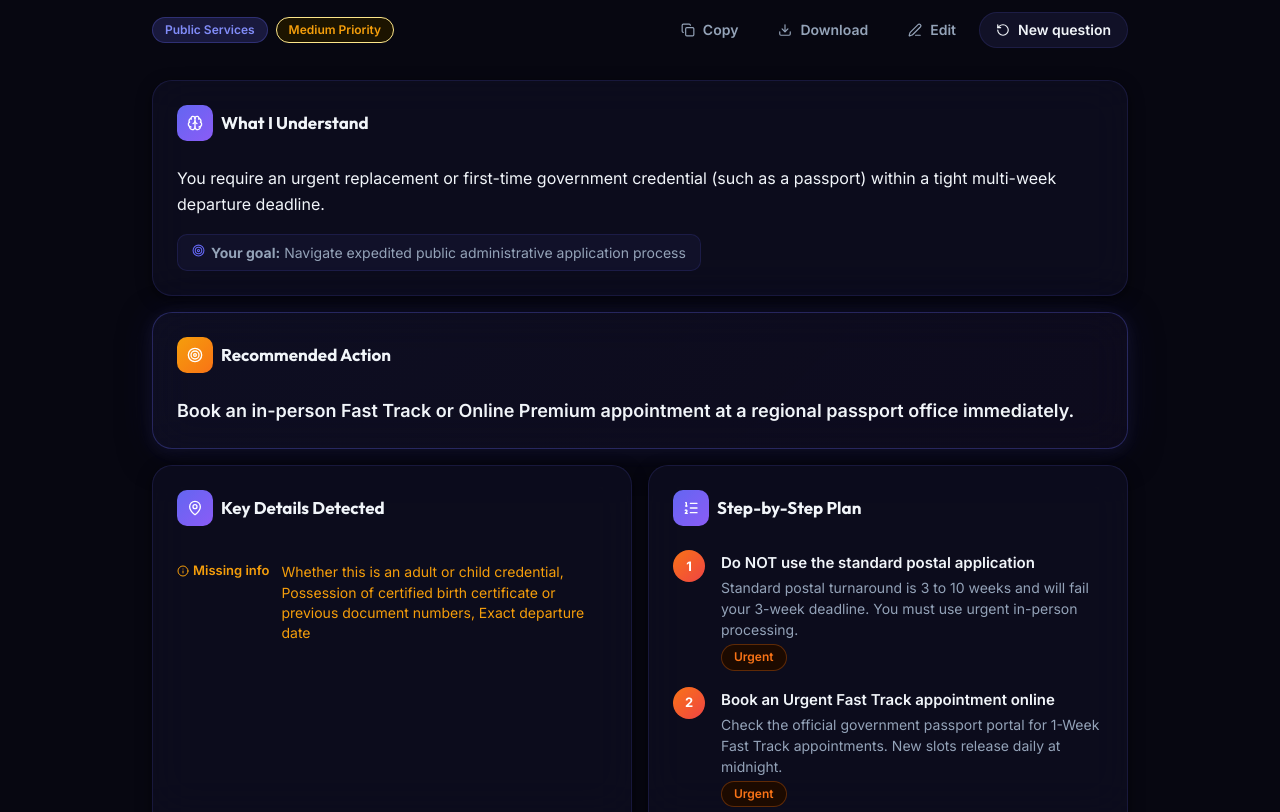
Test case: ResultsDashboard — Copy Result button › shows "Copied!" after a successful clipboard write
Click the button with aria-label "Copy result to clipboard" at (710, 30), box [664, 12, 755, 48]
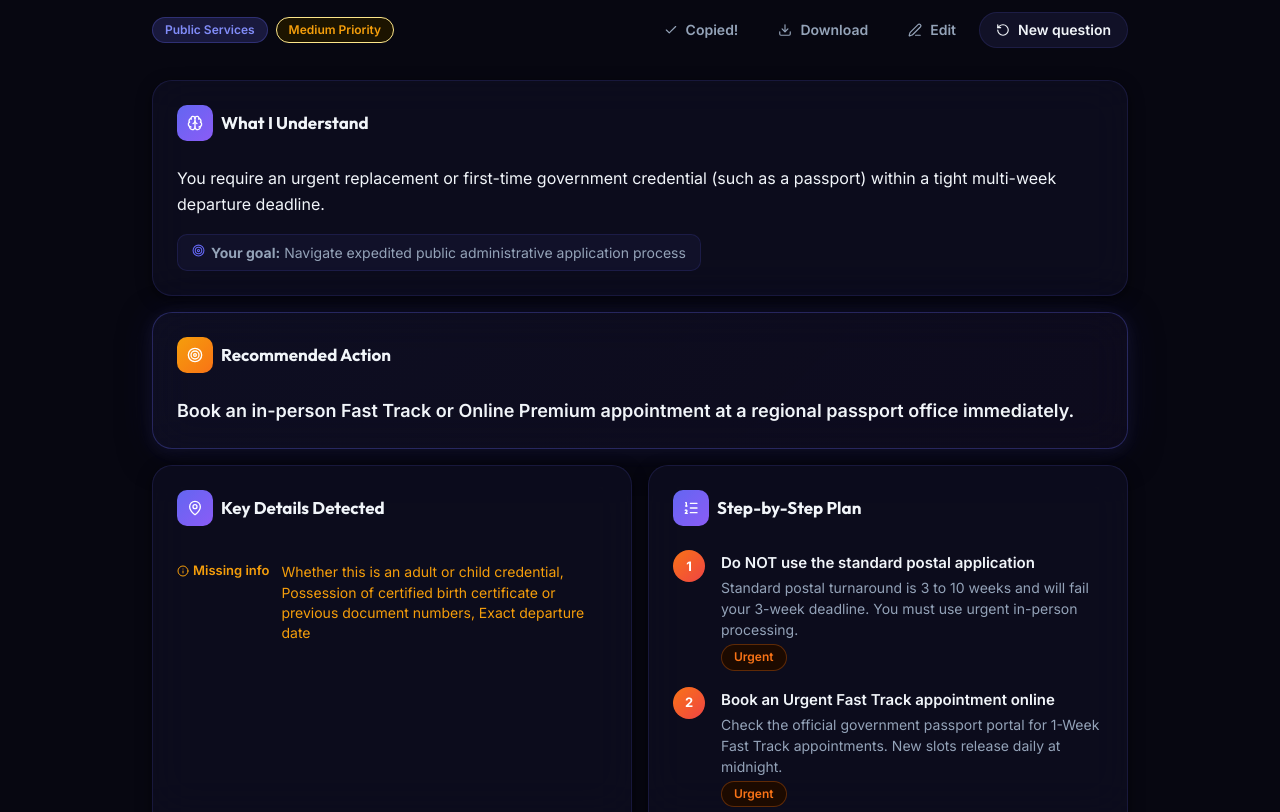
Check: the button with aria-label "Result copied to clipboard" reads "Copied!", box [647, 12, 755, 48]
